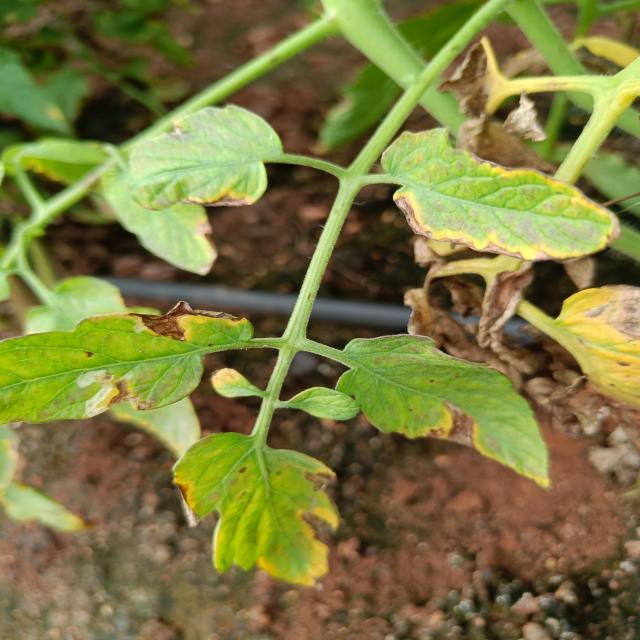Tomato mosaic virus leaf: (373, 124, 628, 268), (0, 294, 255, 428)
